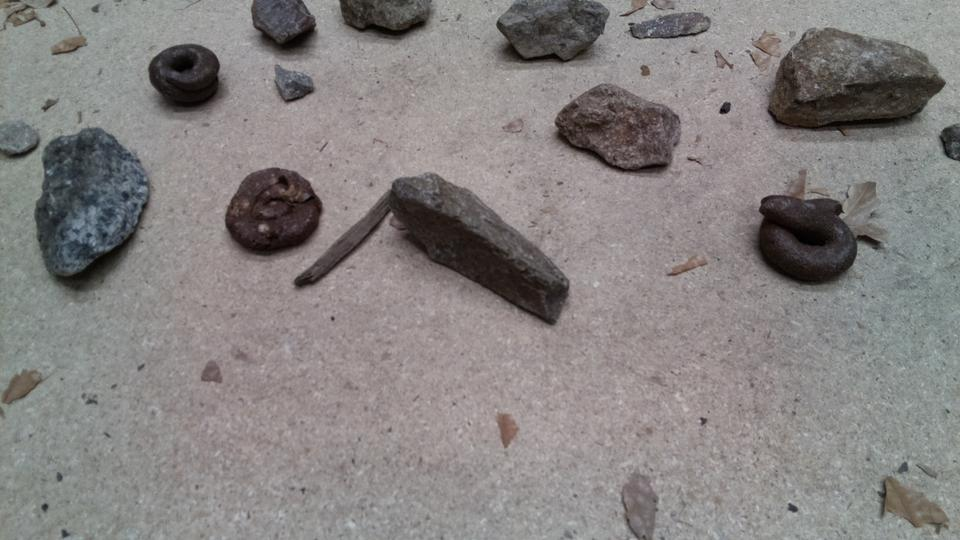poop: (497, 212, 607, 315), (460, 50, 563, 137), (736, 129, 830, 222)
